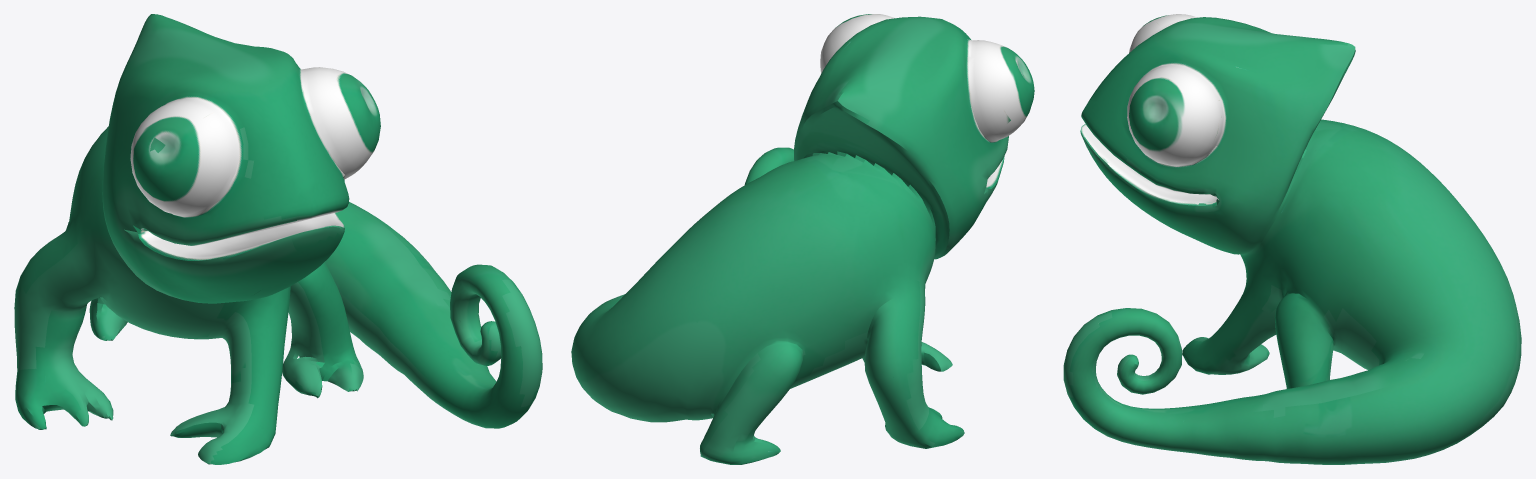
Rendered from geeko-sitting.glb.
3 views of the same model, side by side, from view 1: azimuth 30°, elevation 25°; view 2: azimuth 150°, elevation 25°; view 3: azimuth 270°, elevation 25° (orthographic). The views are drawn at different scales.
Visible parts, largest first — view 1: Meshy_AI_Emerald_Chameleon_0827172352_texture; view 2: Meshy_AI_Emerald_Chameleon_0827172352_texture; view 3: Meshy_AI_Emerald_Chameleon_0827172352_texture.
Boxes of the visible parts, x1=… form: Meshy_AI_Emerald_Chameleon_0827172352_texture: x1=14, y1=14, x2=542, y2=464; Meshy_AI_Emerald_Chameleon_0827172352_texture: x1=571, y1=14, x2=1034, y2=464; Meshy_AI_Emerald_Chameleon_0827172352_texture: x1=1063, y1=14, x2=1521, y2=464.
Bounding box in the file's own units: 1.67 × 1.51 × 1.9.
1 material, 1 textured.
